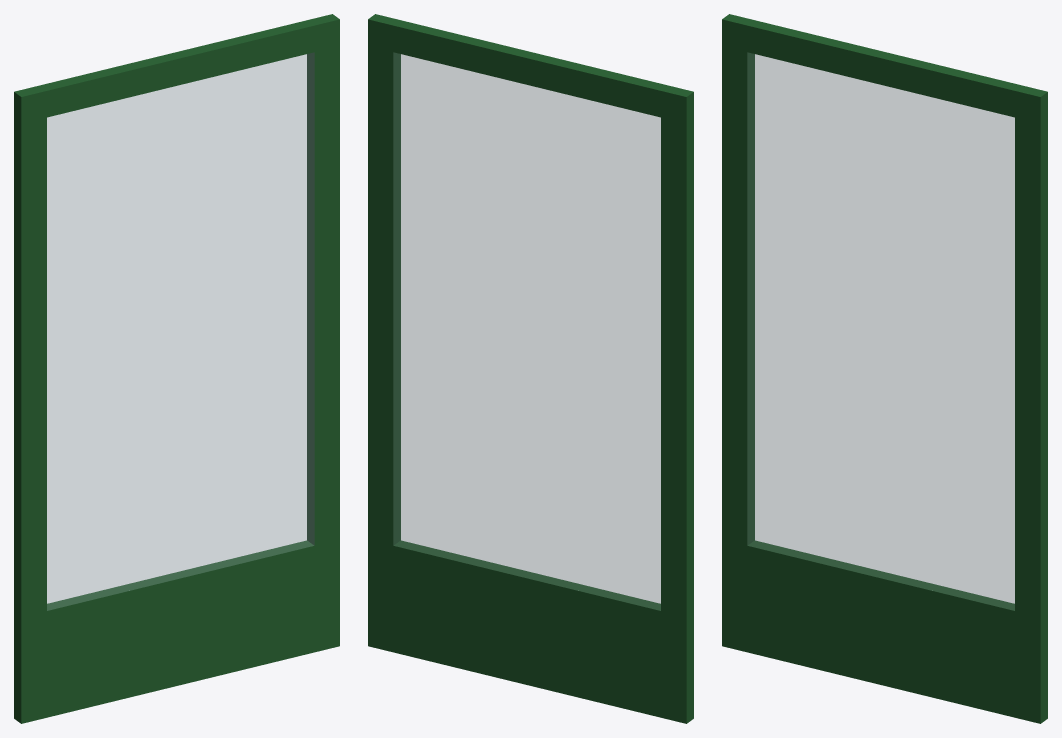
Rendered from combine_harvester_cab_door.glb.
3 views of the same model, side by side, from view 1: azimuth 30°, elevation 25°; view 2: azimuth 150°, elevation 25°; view 3: azimuth 330°, elevation 25° (orthographic).
Parts seen in each view (by area): view 1: body:compound; view 2: body:compound; view 3: body:compound.
Part boxes in pixels (x1,y1,x2,y2): body:compound: (14, 14, 339, 723); body:compound: (368, 14, 693, 723); body:compound: (722, 14, 1047, 723).
Bounding box in the file's own units: 0.7812 × 1.47 × 0.0312.
